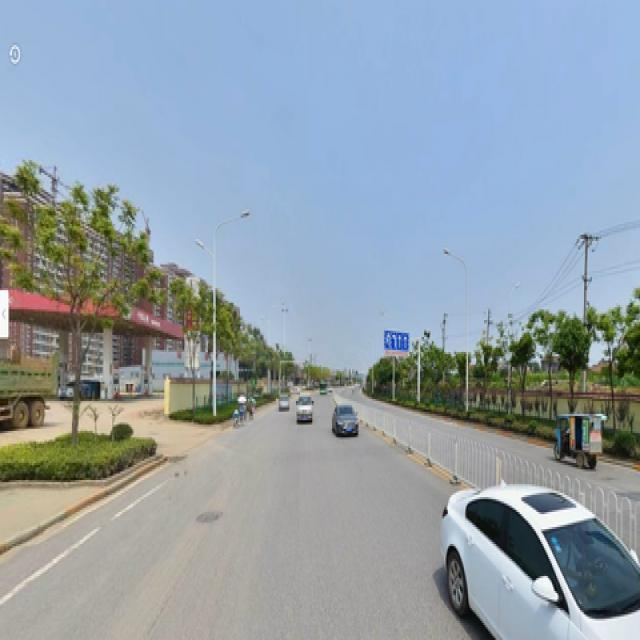koel: (35, 188, 108, 410), (169, 290, 207, 414)
